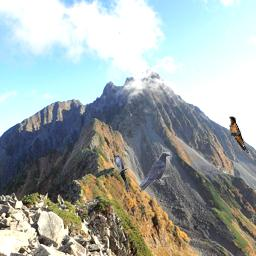Crow: (139, 152, 170, 192)
Cuckoo: (115, 154, 129, 194)
Swallow: (229, 116, 249, 153)
